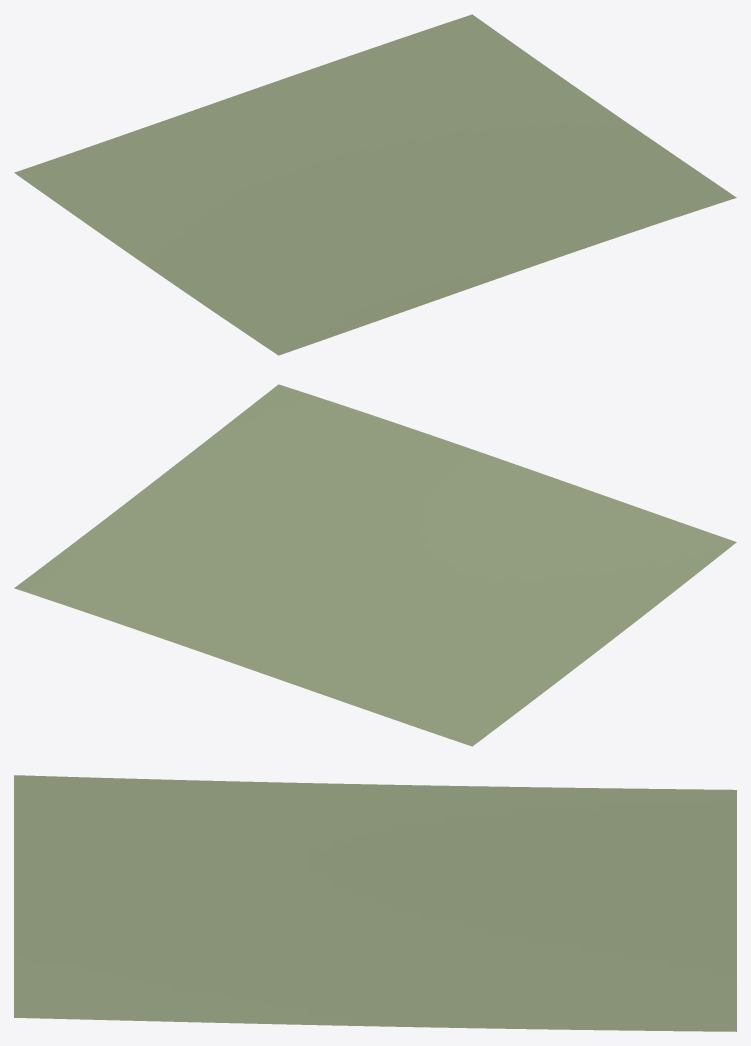
Rendered from desert-11-23.glb.
3 renders of one model, top to bottom at view 1: azimuth 30°, elevation 25°; view 2: azimuth 150°, elevation 25°; view 3: azimuth 270°, elevation 25°, orthographic. The views are drawn at different scales.
Parts seen in each view (by area): view 1: desert-11-23; view 2: desert-11-23; view 3: desert-11-23.
Part boxes in pixels (x1=…): desert-11-23: x1=14, y1=14, x2=736, y2=355; desert-11-23: x1=14, y1=384, x2=736, y2=746; desert-11-23: x1=14, y1=775, x2=736, y2=1031.
Bounding box in the file's own units: 512 × 60.61 × 512.
